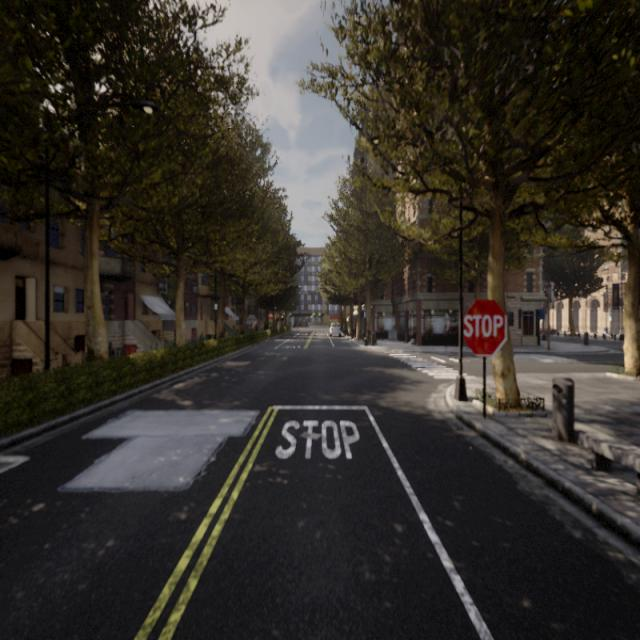stop sign: (460, 296, 509, 358), (462, 310, 504, 340)
